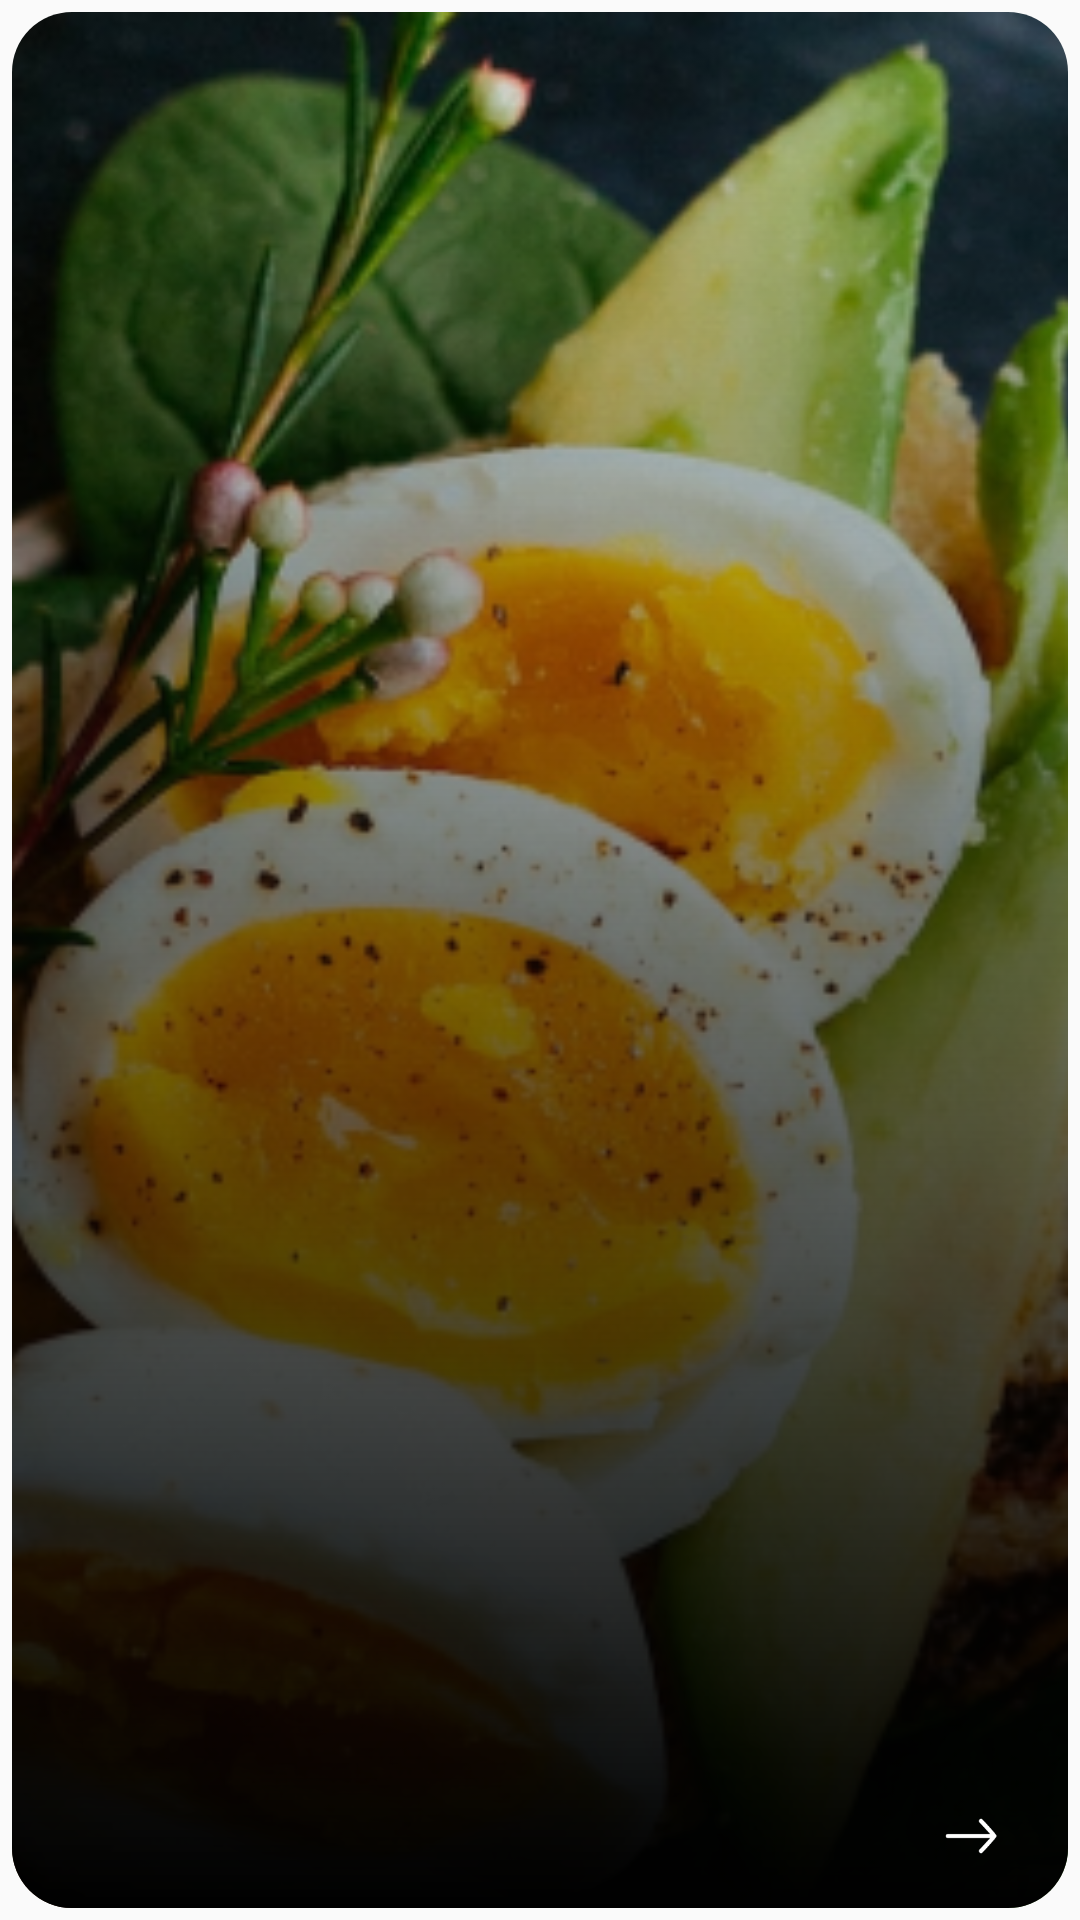

Screen size 1080w x 1920h. Icon name, then its center in pixels as [x,y]:
arrow right: [971,1836]
